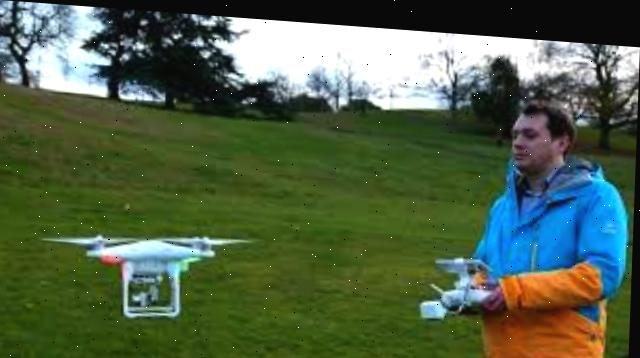drone: (41, 216, 250, 319)
